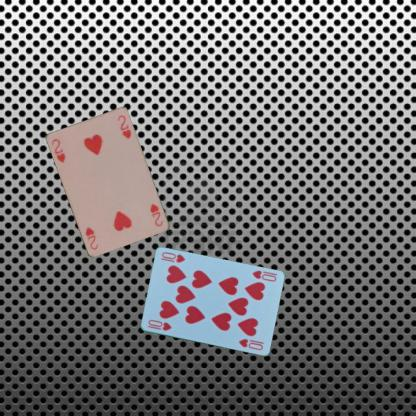10h: (145, 317, 173, 332), (250, 268, 277, 283)
2h: (50, 136, 66, 164), (148, 201, 164, 228)
